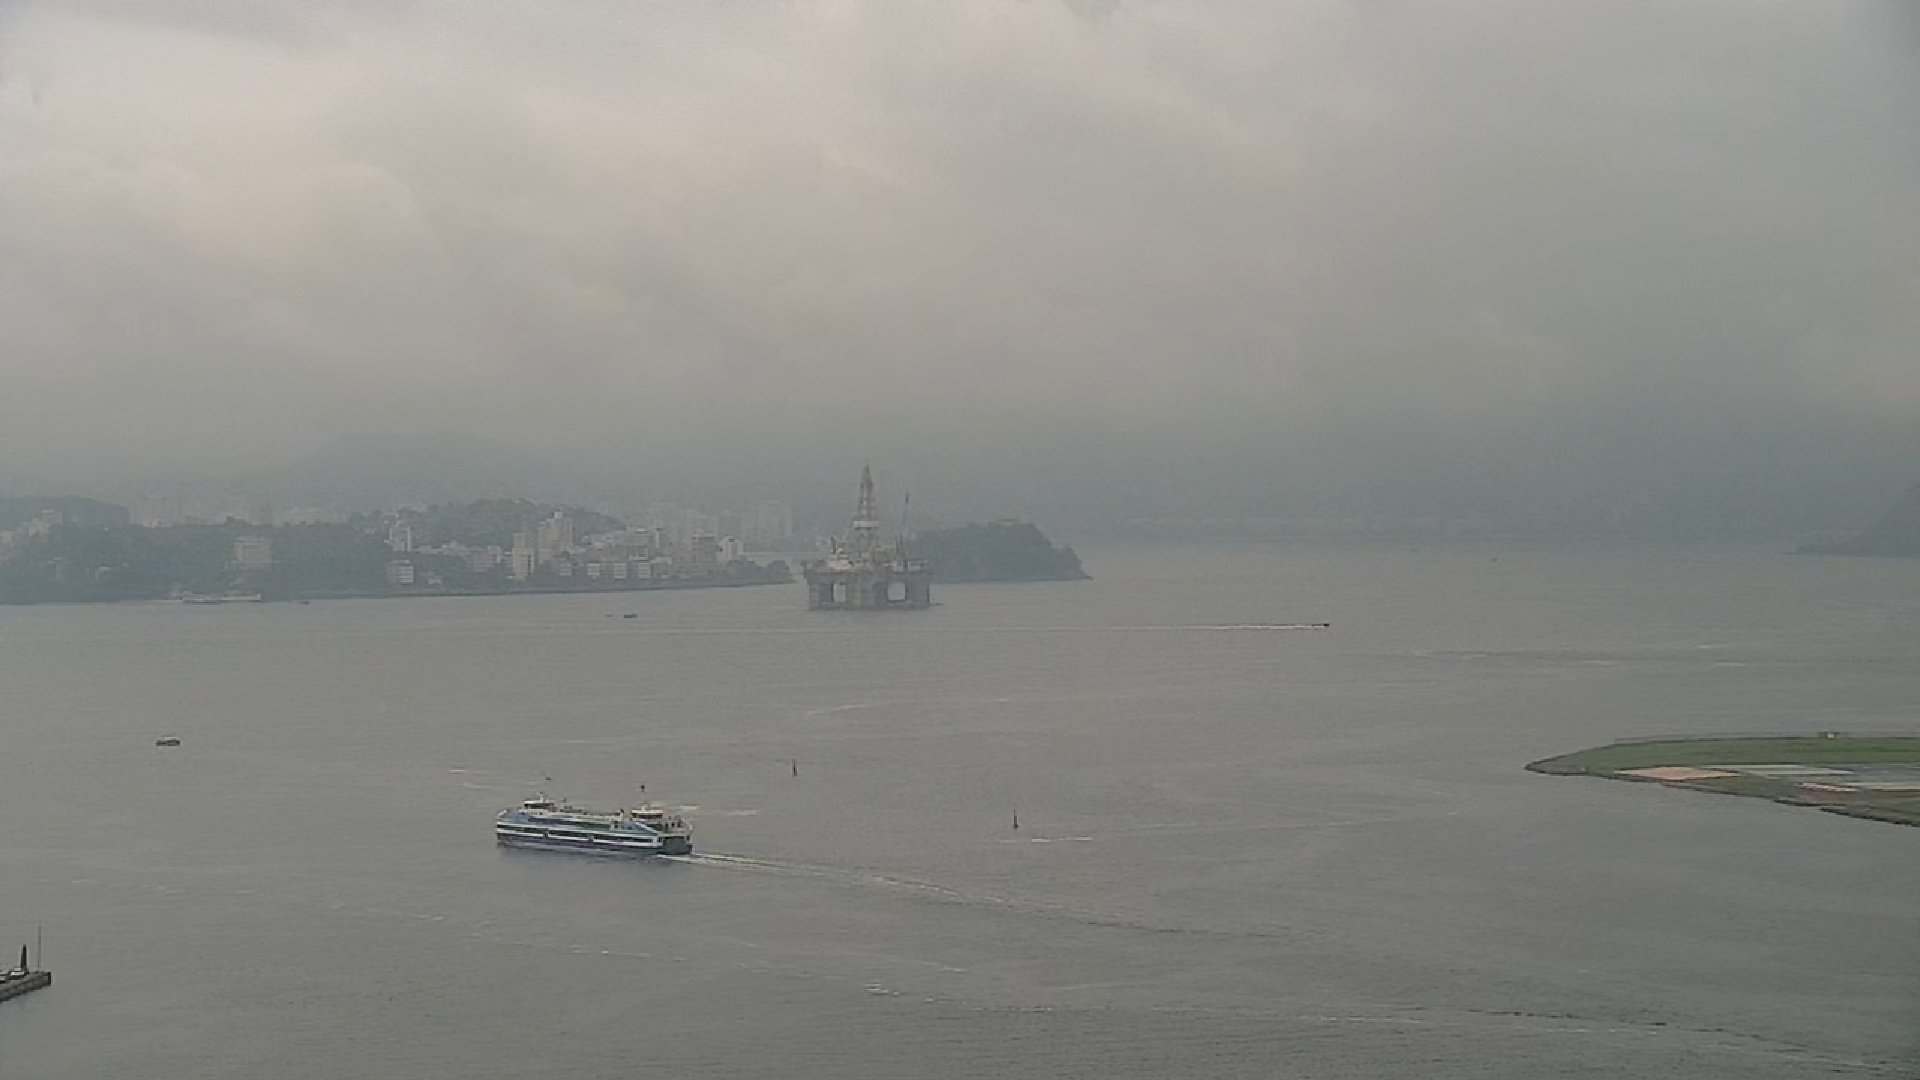Ship1: (495, 785, 702, 868)
Ship6: (1309, 618, 1331, 632)
Ship7: (154, 736, 185, 748)
